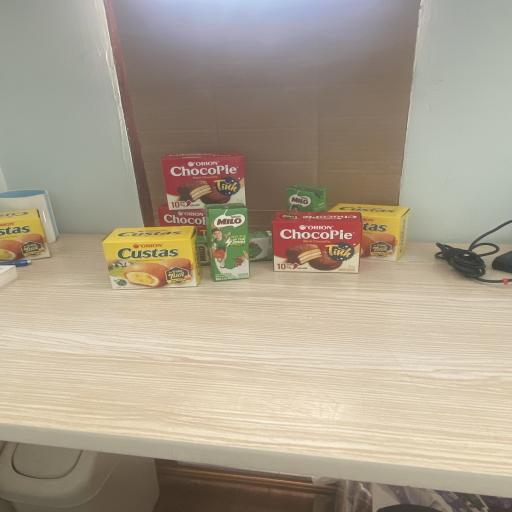chocopie: (271, 211, 363, 273), (161, 151, 245, 211), (158, 204, 242, 252)
custas: (102, 226, 200, 289), (326, 202, 410, 261), (0, 209, 52, 260)
milo: (205, 204, 250, 282), (195, 230, 273, 266), (286, 184, 328, 212)
